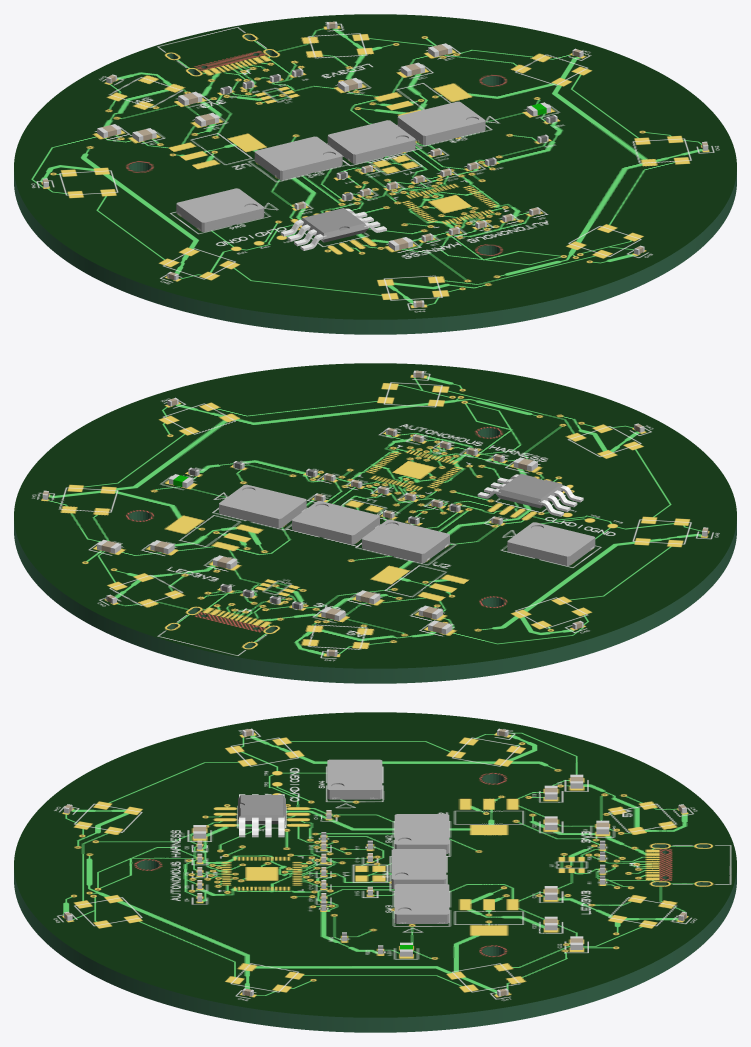
The model's file is board.glb.
The picture shows the model from 3 angles, top to bottom: view 1: azimuth 30°, elevation 25°; view 2: azimuth 150°, elevation 25°; view 3: azimuth 270°, elevation 25°; orthographic projection.
Visible parts, largest first — view 1: Box0, SW4, SW2, SW3, SW1, U4; view 2: Box0, SW4, SW2, SW3, SW1, U4; view 3: Box0, SW4, SW3, SW2, SW1, U4.
Part boxes in pixels (x1,y1,x2,y2): Box0: (14,14,736,334); SW4: (176,188,264,231); SW2: (254,136,342,180); SW3: (397,101,485,145); SW1: (327,120,415,163); U4: (280,208,386,250); Box0: (14,363,736,683); SW4: (507,522,595,565); SW2: (362,519,449,563); SW3: (219,484,306,528); SW1: (292,501,379,544); U4: (477,474,583,516); Box0: (14,712,736,1032); SW4: (327,759,382,799); SW3: (394,884,449,923); SW2: (394,814,449,853); SW1: (391,849,446,888); U4: (238,794,285,837).
Size of the model in its own units: 70 by 2.88 by 70.
10 materials, 2 textured.
